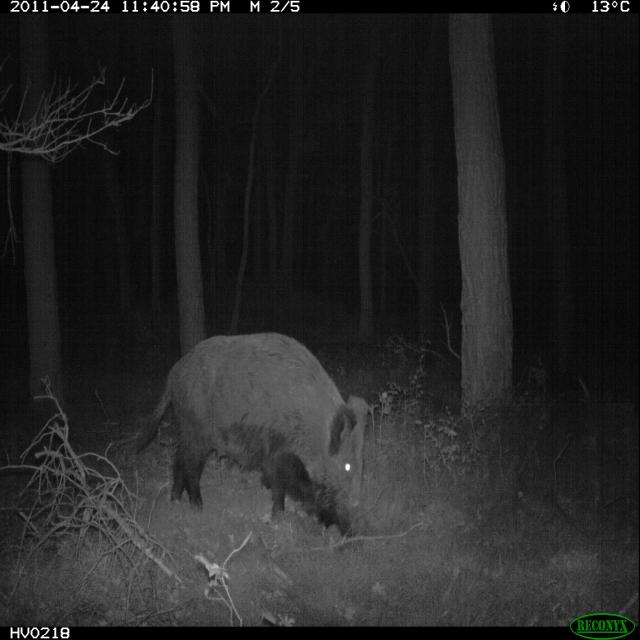boar: (135, 315, 386, 568)
